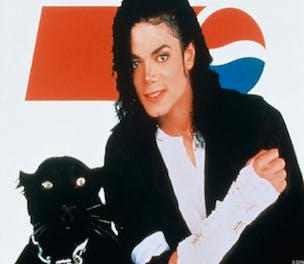pepsi: (196, 5, 265, 96)
